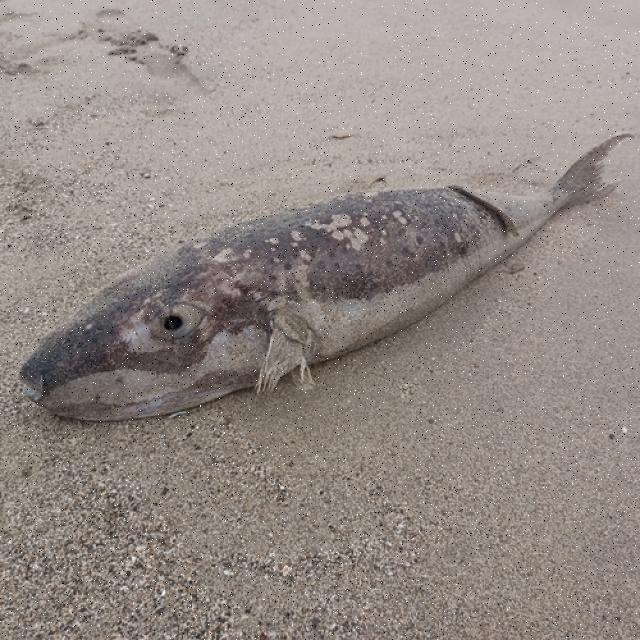Balik: (21, 135, 631, 419)
